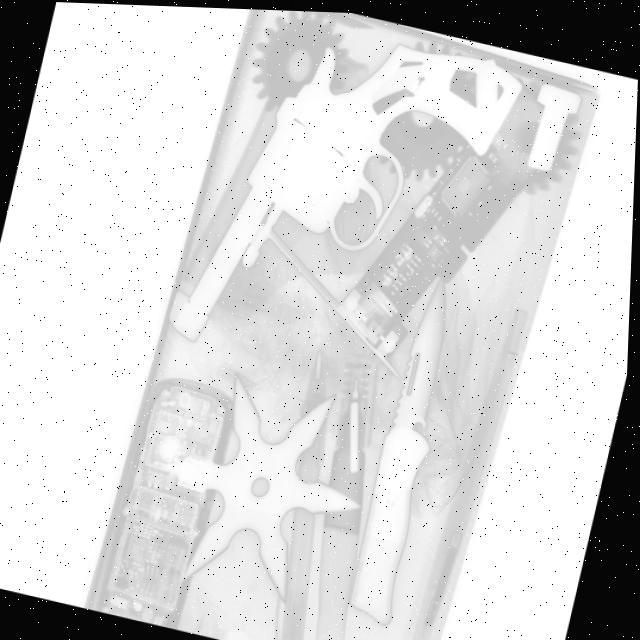knife: (343, 263, 478, 631)
pistol: (163, 5, 530, 403)
